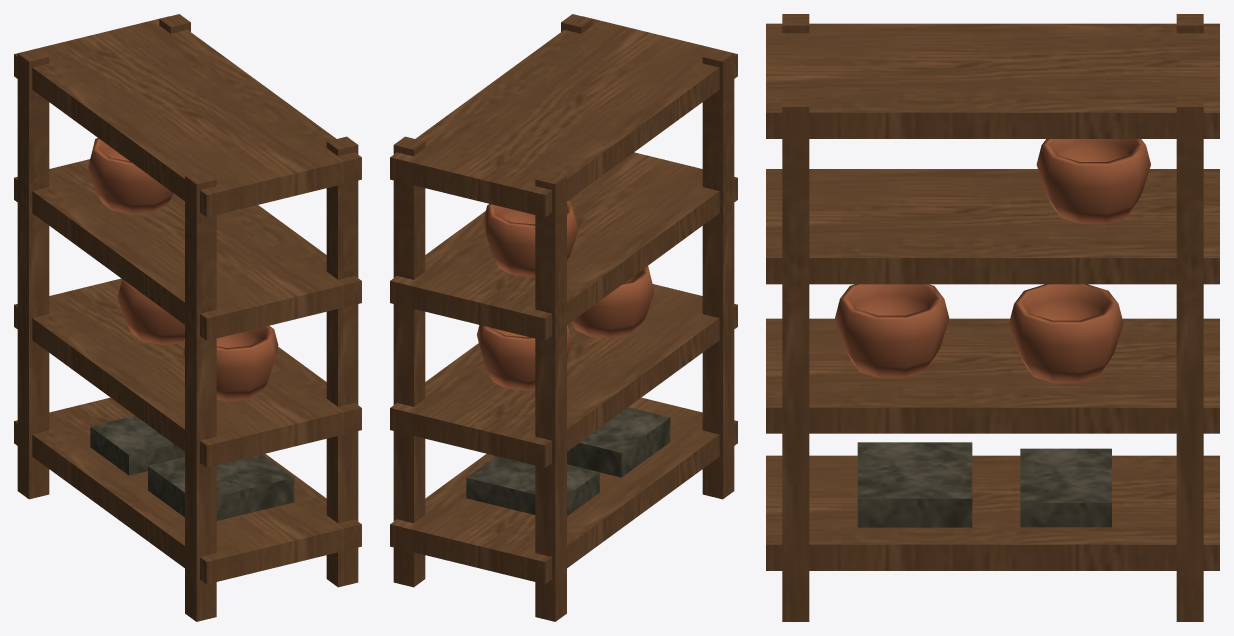
File: bronzeCrucibleRack.glb
3 views of the same model, side by side, from view 1: azimuth 30°, elevation 25°; view 2: azimuth 150°, elevation 25°; view 3: azimuth 270°, elevation 25° (orthographic). The views are drawn at different scales.
Parts seen in each view (by area): view 1: part_0, part_1, part_2; view 2: part_0, part_1, part_2; view 3: part_0, part_1, part_2.
Part boxes in pixels (bbox=[...]): part_0: bbox=[14, 14, 361, 621]; part_1: bbox=[88, 138, 278, 401]; part_2: bbox=[90, 415, 294, 520]; part_0: bbox=[390, 14, 737, 621]; part_1: bbox=[477, 200, 654, 390]; part_2: bbox=[466, 407, 670, 516]; part_0: bbox=[766, 14, 1219, 621]; part_1: bbox=[835, 139, 1150, 383]; part_2: bbox=[857, 442, 1111, 527].
Size of the model in its own units: 0.48 by 1.24 by 0.99.
3 materials, 2 textured.
